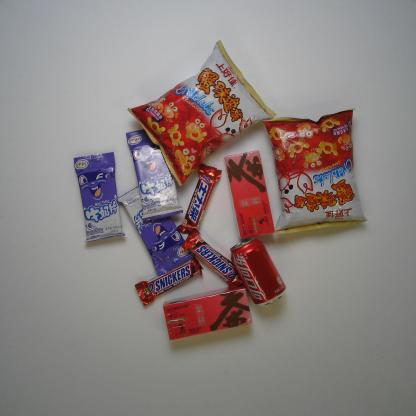Candy: (114, 178, 202, 284), (121, 125, 184, 225), (72, 152, 126, 247)
Chocolate: (182, 227, 250, 293), (174, 160, 224, 240), (131, 256, 205, 310)
Drink: (226, 232, 289, 311)
Instant Drink: (162, 282, 256, 344), (222, 148, 276, 243)
Puffed Food: (122, 36, 276, 188), (258, 104, 372, 238)
